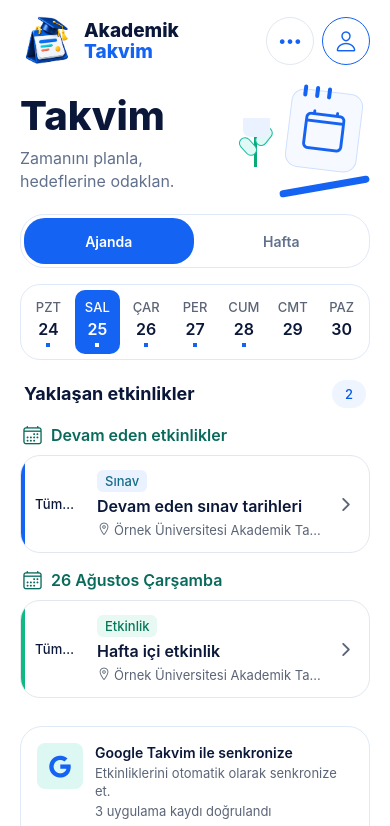
Test: Phase 9 Calendar experience › groups an overlapping record as continuing instead of showing a date outside the visible range
Expected: the heading "Devam eden etkinlikler" is shown, [51, 425, 227, 445]
Expected: the text "Devam eden sınav tarihleri" is shown, [97, 494, 325, 518]
Step 1. Click the radio button labelled "Hafta" → (281, 241), box [263, 232, 300, 250]
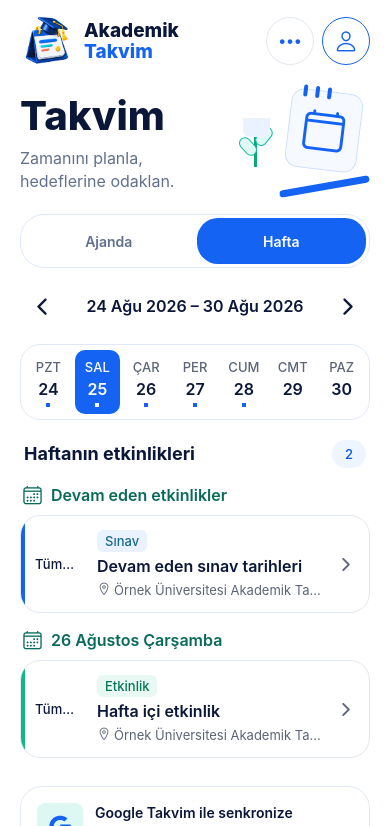
Expected: the heading "Devam eden etkinlikler" is shown, [51, 485, 227, 505]
Expected: the text "24 Ağu 2026 – 30 Ağu 2026" is shown, [86, 294, 304, 318]
